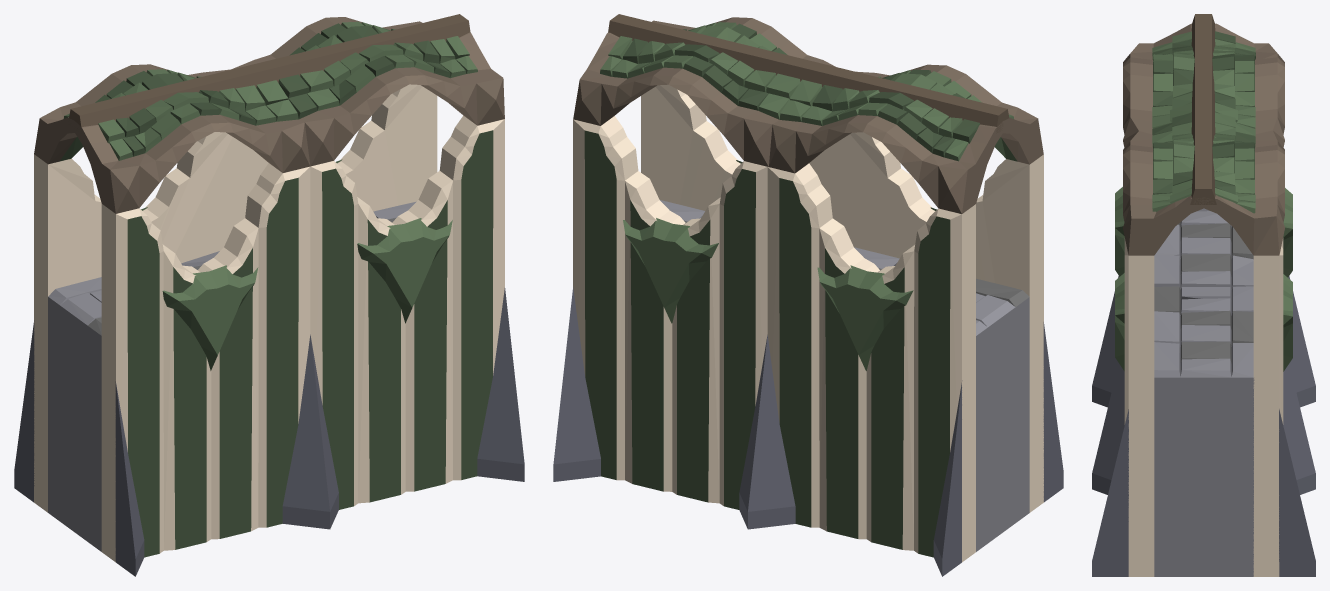
File: _wall_2.fbx
3 views of the same model, side by side, from view 1: azimuth 30°, elevation 25°; view 2: azimuth 150°, elevation 25°; view 3: azimuth 270°, elevation 25° (orthographic). The views are drawn at different scales.
Parts seen in each view (by area): view 1: wall_2; view 2: wall_2; view 3: wall_2.
Boxes of the visible parts, x1,y1,x2,y2 form: wall_2: [14, 14, 524, 576]; wall_2: [553, 14, 1063, 576]; wall_2: [1092, 14, 1315, 576].
Size of the model in its own units: 563 by 584 by 304.
